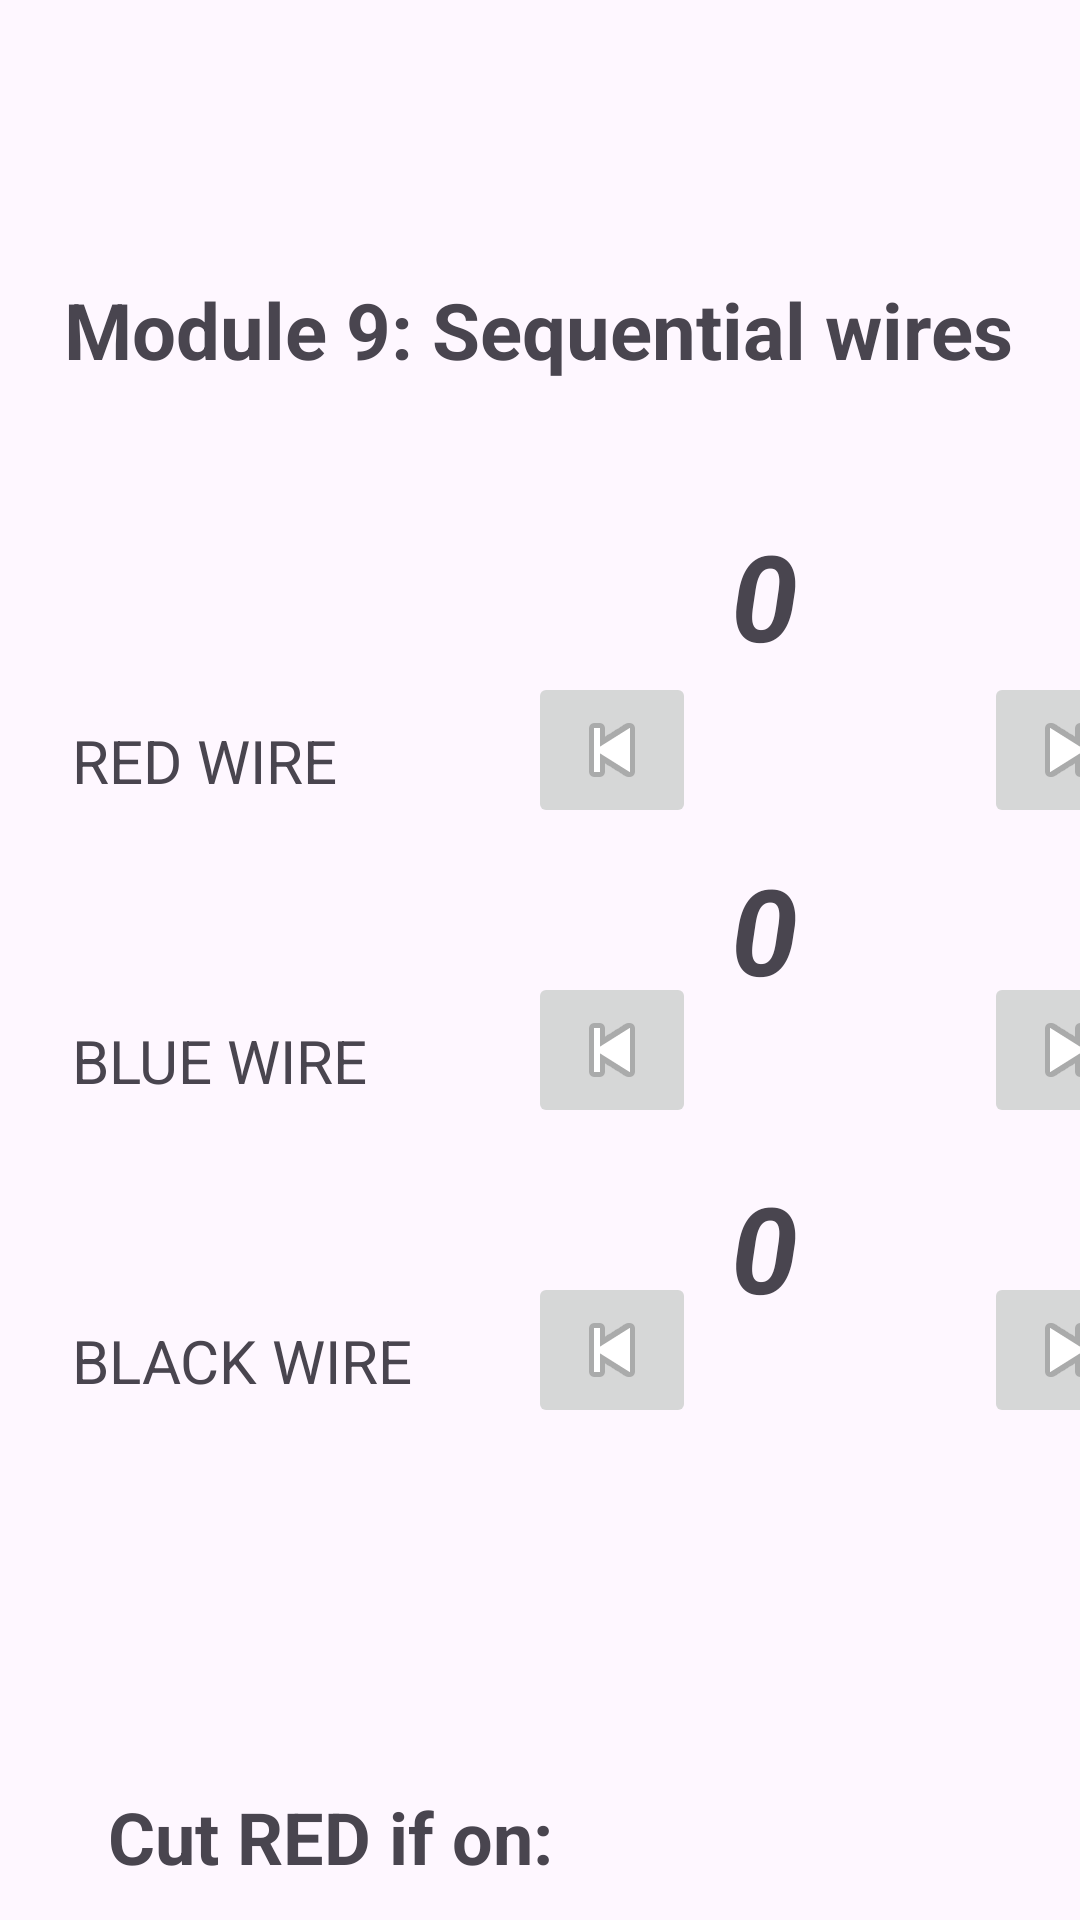

Screen size 1080px×1920px. Icon name, then its box in pixels as (x1, y1, x2, y2):
previous: (540, 690, 684, 810), (540, 990, 684, 1110), (540, 1290, 684, 1410)
